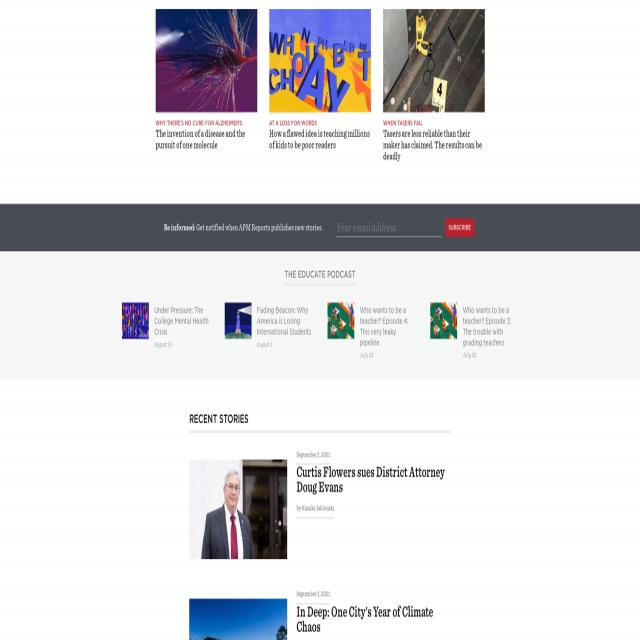button: (188, 448, 445, 560), (384, 10, 485, 164), (269, 8, 371, 158), (156, 9, 257, 158), (189, 589, 442, 640), (429, 302, 516, 368), (327, 302, 413, 362), (122, 302, 210, 354), (225, 304, 315, 354), (445, 218, 475, 236)
field: (336, 219, 442, 239)
